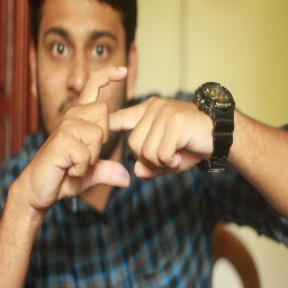E: (65, 62, 159, 201)
